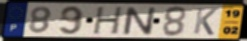8: (161, 5, 189, 38), (28, 6, 53, 34)
9: (59, 5, 85, 36)
H: (91, 6, 125, 36)
K: (192, 7, 219, 36)
N: (122, 6, 157, 36)
